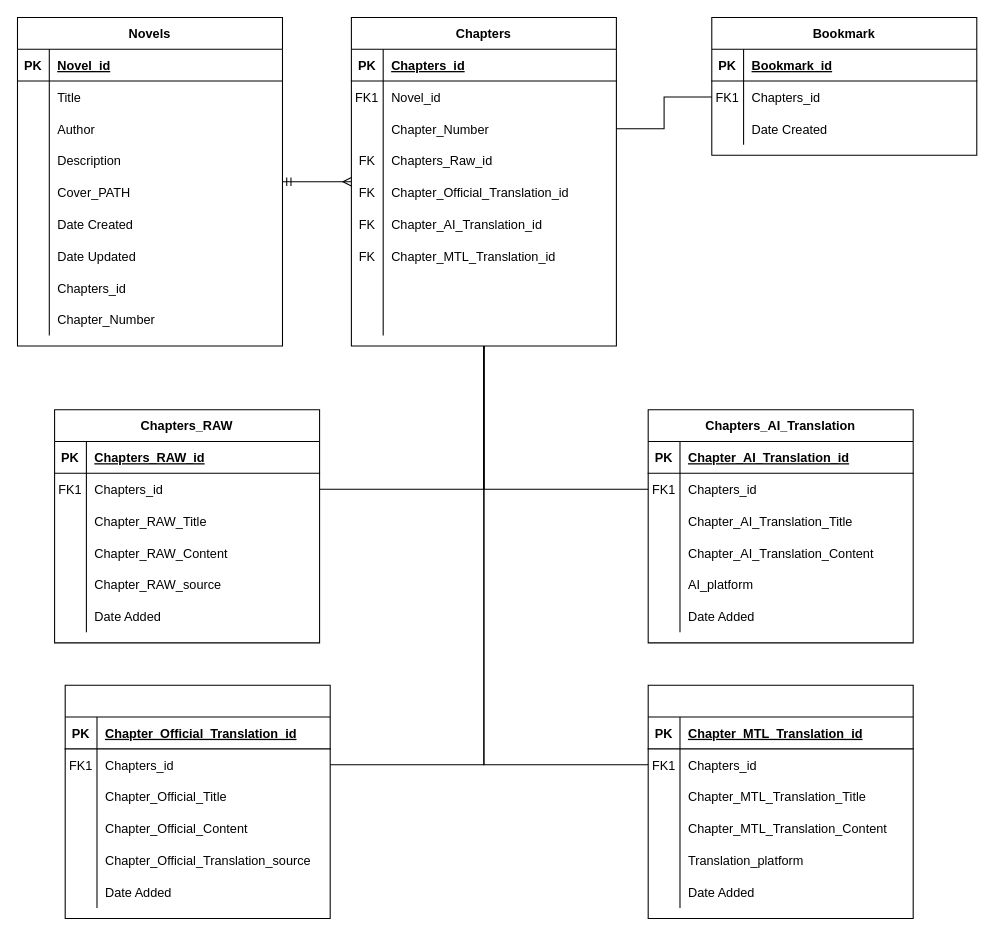
The diagram is 994 pixels wide and 936 high, and some of its shapes have lost their labels. Here are the shapes that lost their labels. From the top down, the box of each, then its label:
(64, 684, 330, 918): Chapters_Official_Translation
(647, 684, 913, 918): Chapters_MTL_Translation
